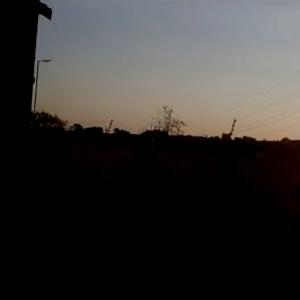follow: (105, 123, 176, 299)
